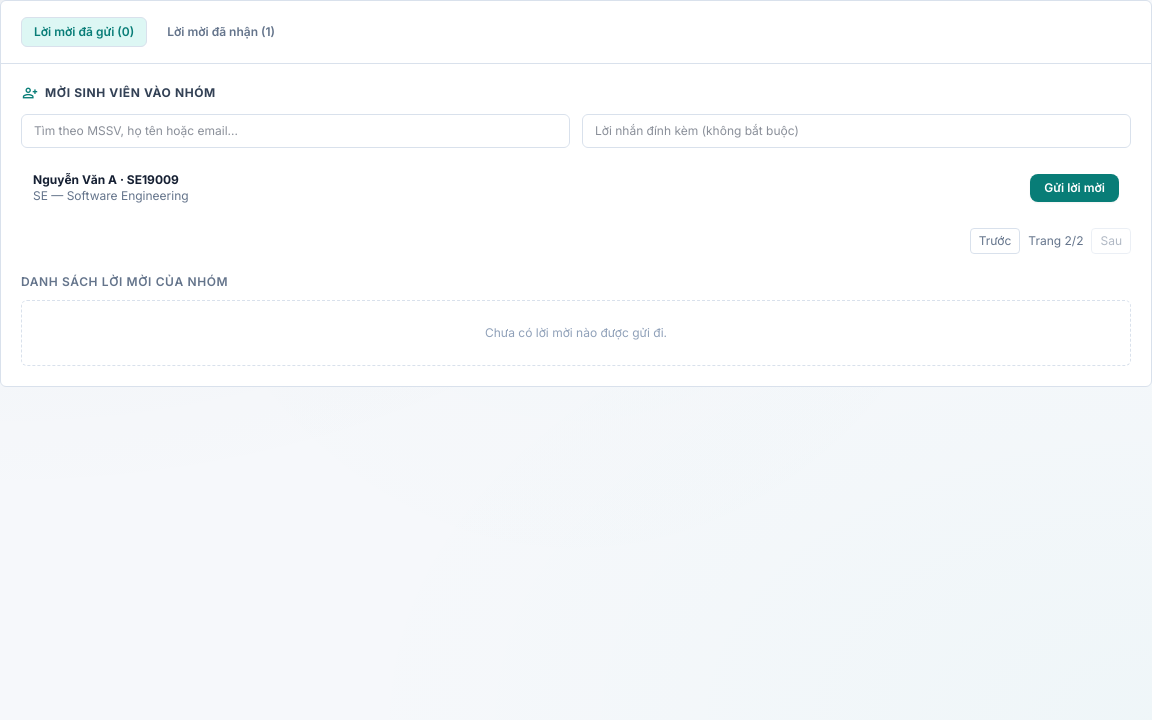
Scenario: TeamInvitationsPanel › handles very long Vietnamese names and messages gracefully with text wrap and truncation classes
The image size is (1152, 720).
Click the button "Lời mời đã nhận (1)" at (221, 32), box [155,18,287,46]
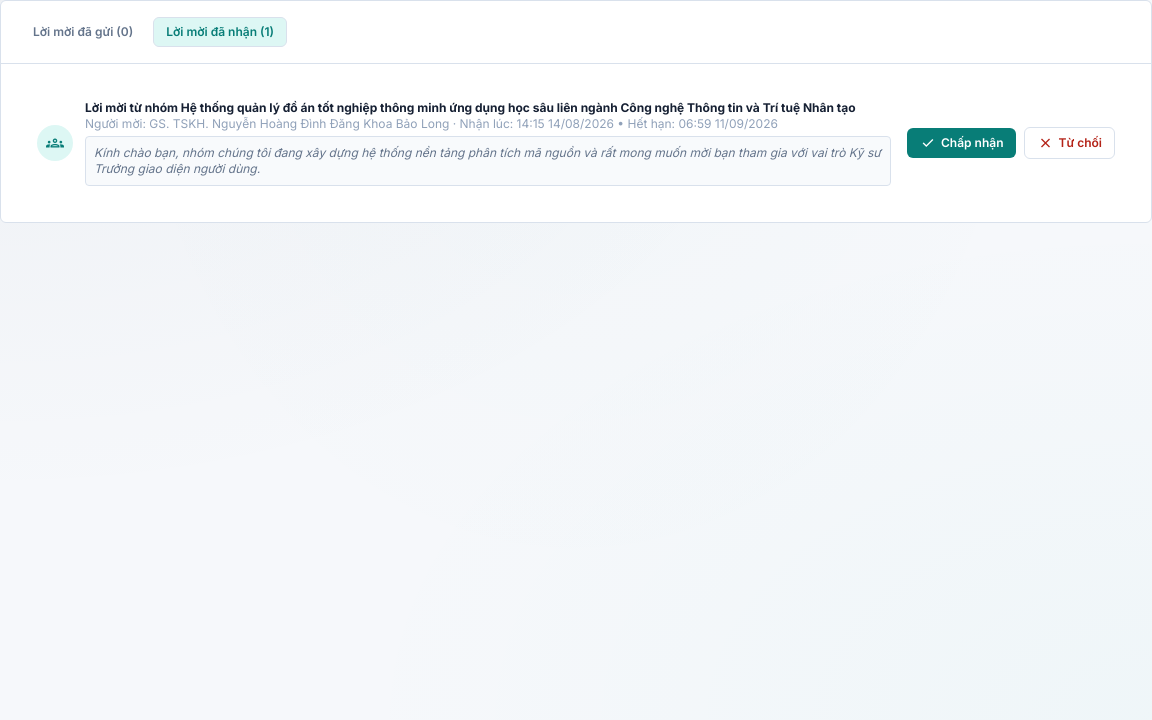
Now the text "Kính chào bạn, nhóm chúng tôi đang xây dựng hệ thống nền tảng phân tích mã nguồn và rất mong muốn mời bạn tham gia với v" is shown, box [94,145,881,176]
